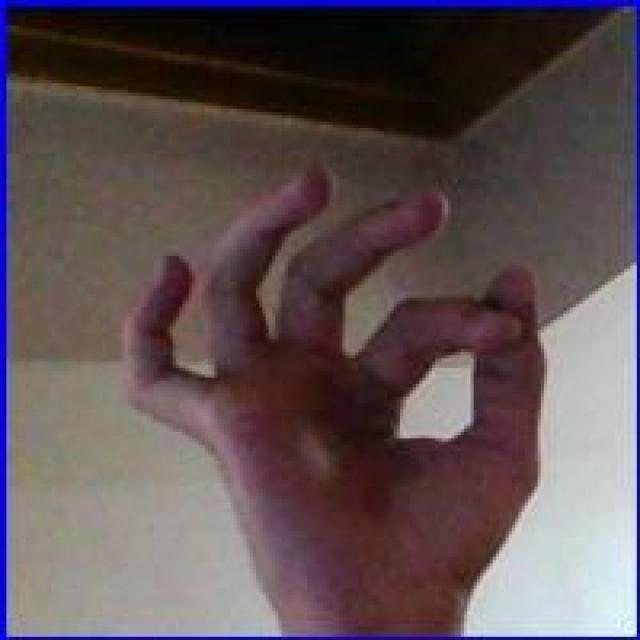F: (122, 157, 560, 640)
